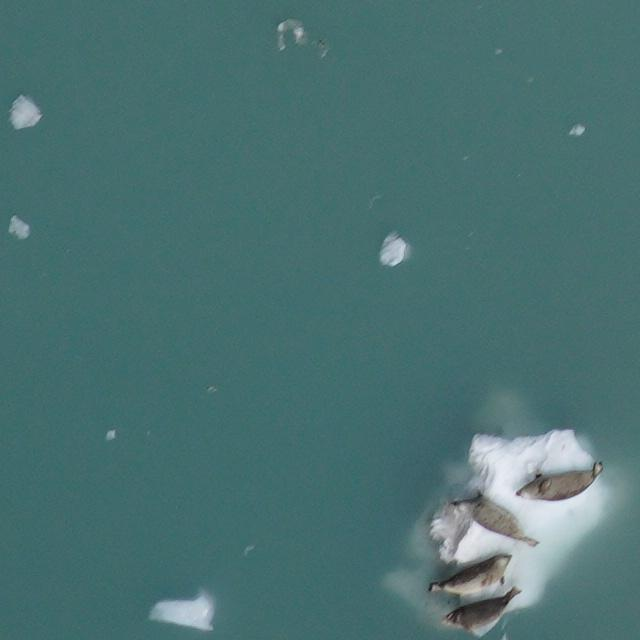seal: (450, 481, 544, 559), (424, 551, 518, 609), (439, 580, 529, 640), (512, 459, 610, 511)
